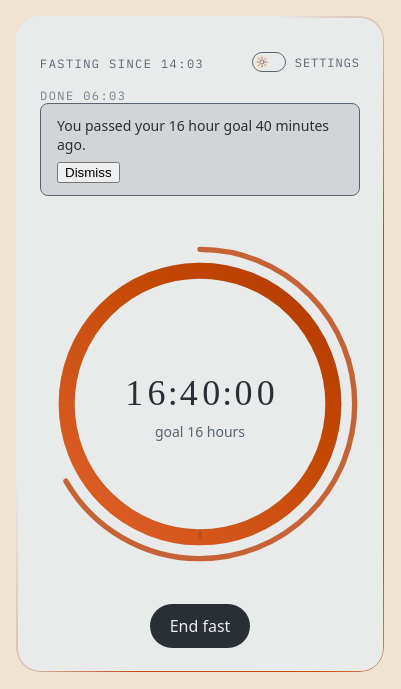
Scenario: <Timer> milestones (spec §6) › dismisses the catch-up card on click without un-firing the milestone
The image size is (401, 689).
Click the button "Dismiss": (88, 172) 57,162 -> 120,183
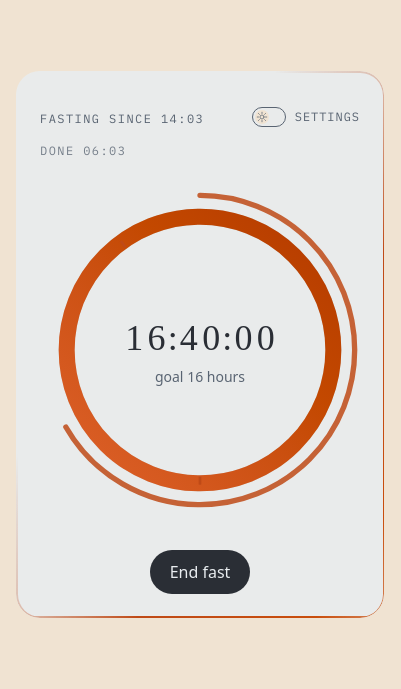
Expected: the text "You passed your 16 hour goal" is gone
